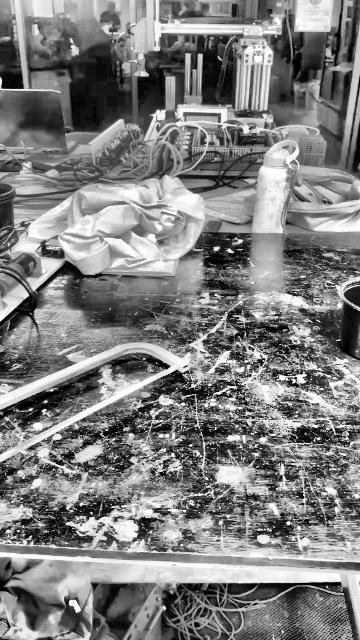pot: (339, 282, 359, 355), (0, 183, 15, 229)
